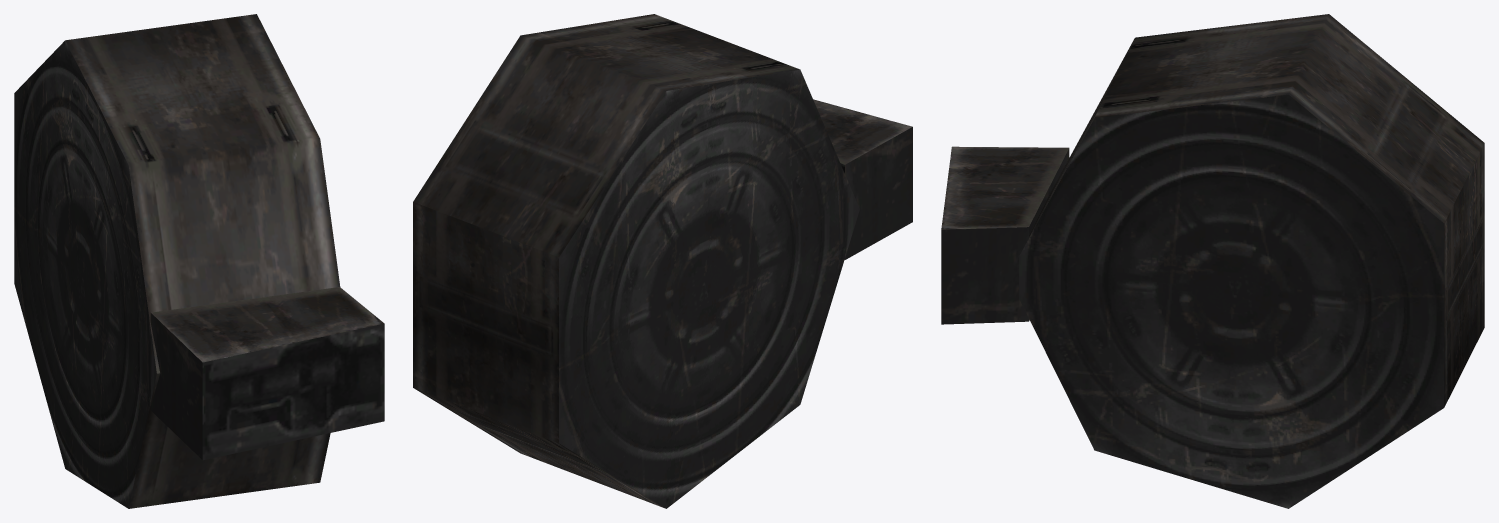
File: t6_attach_mag_type05_lmg_world_LOD1.obj
3 views of the same model, side by side, from view 1: azimuth 30°, elevation 25°; view 2: azimuth 150°, elevation 25°; view 3: azimuth 270°, elevation 25° (orthographic). The views are drawn at different scales.
Parts seen in each view (by area): view 1: mtl_t6_wpn_lmg_type95_drum; view 2: mtl_t6_wpn_lmg_type95_drum; view 3: mtl_t6_wpn_lmg_type95_drum.
Part boxes in pixels (x1,y1,x2,y2): mtl_t6_wpn_lmg_type95_drum: [14, 14, 384, 508]; mtl_t6_wpn_lmg_type95_drum: [413, 14, 912, 508]; mtl_t6_wpn_lmg_type95_drum: [941, 14, 1484, 508].
Bounding box in the file's own units: 9.05 × 14.37 × 17.08.
